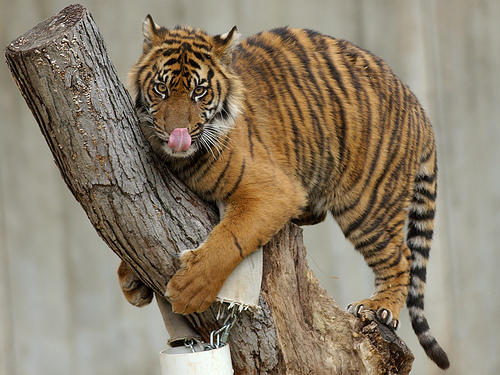Tigre: (111, 9, 445, 324)
